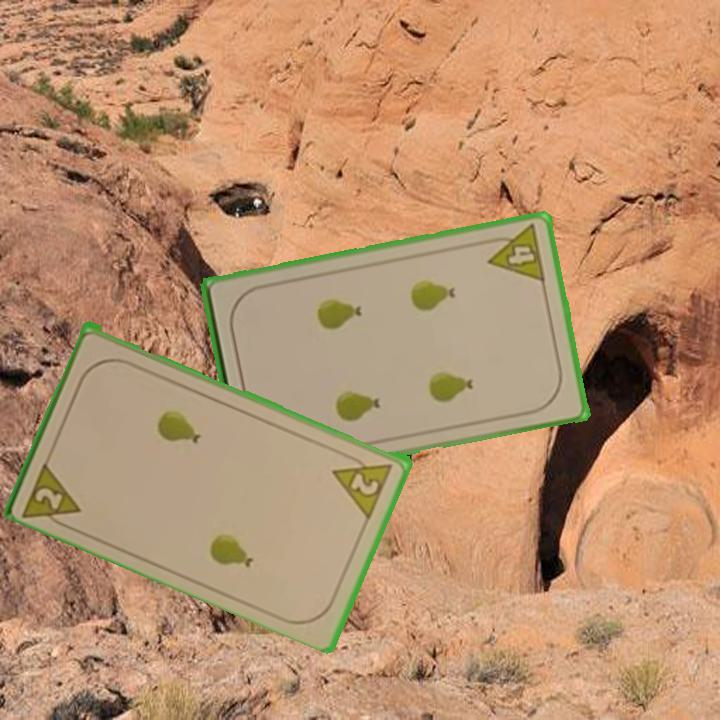2p: (19, 455, 85, 533), (329, 450, 397, 520)
4p: (481, 221, 548, 285)
